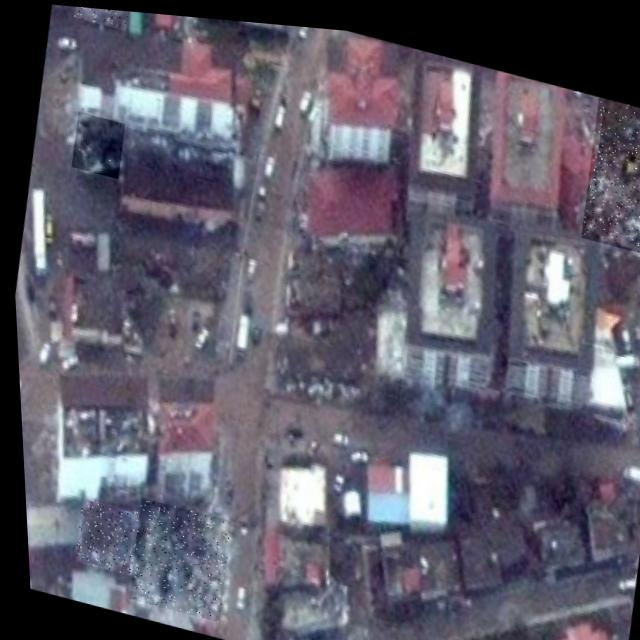Rubble: (117, 494, 230, 619), (573, 84, 640, 248), (66, 495, 137, 575), (67, 109, 126, 177), (73, 5, 135, 28)
